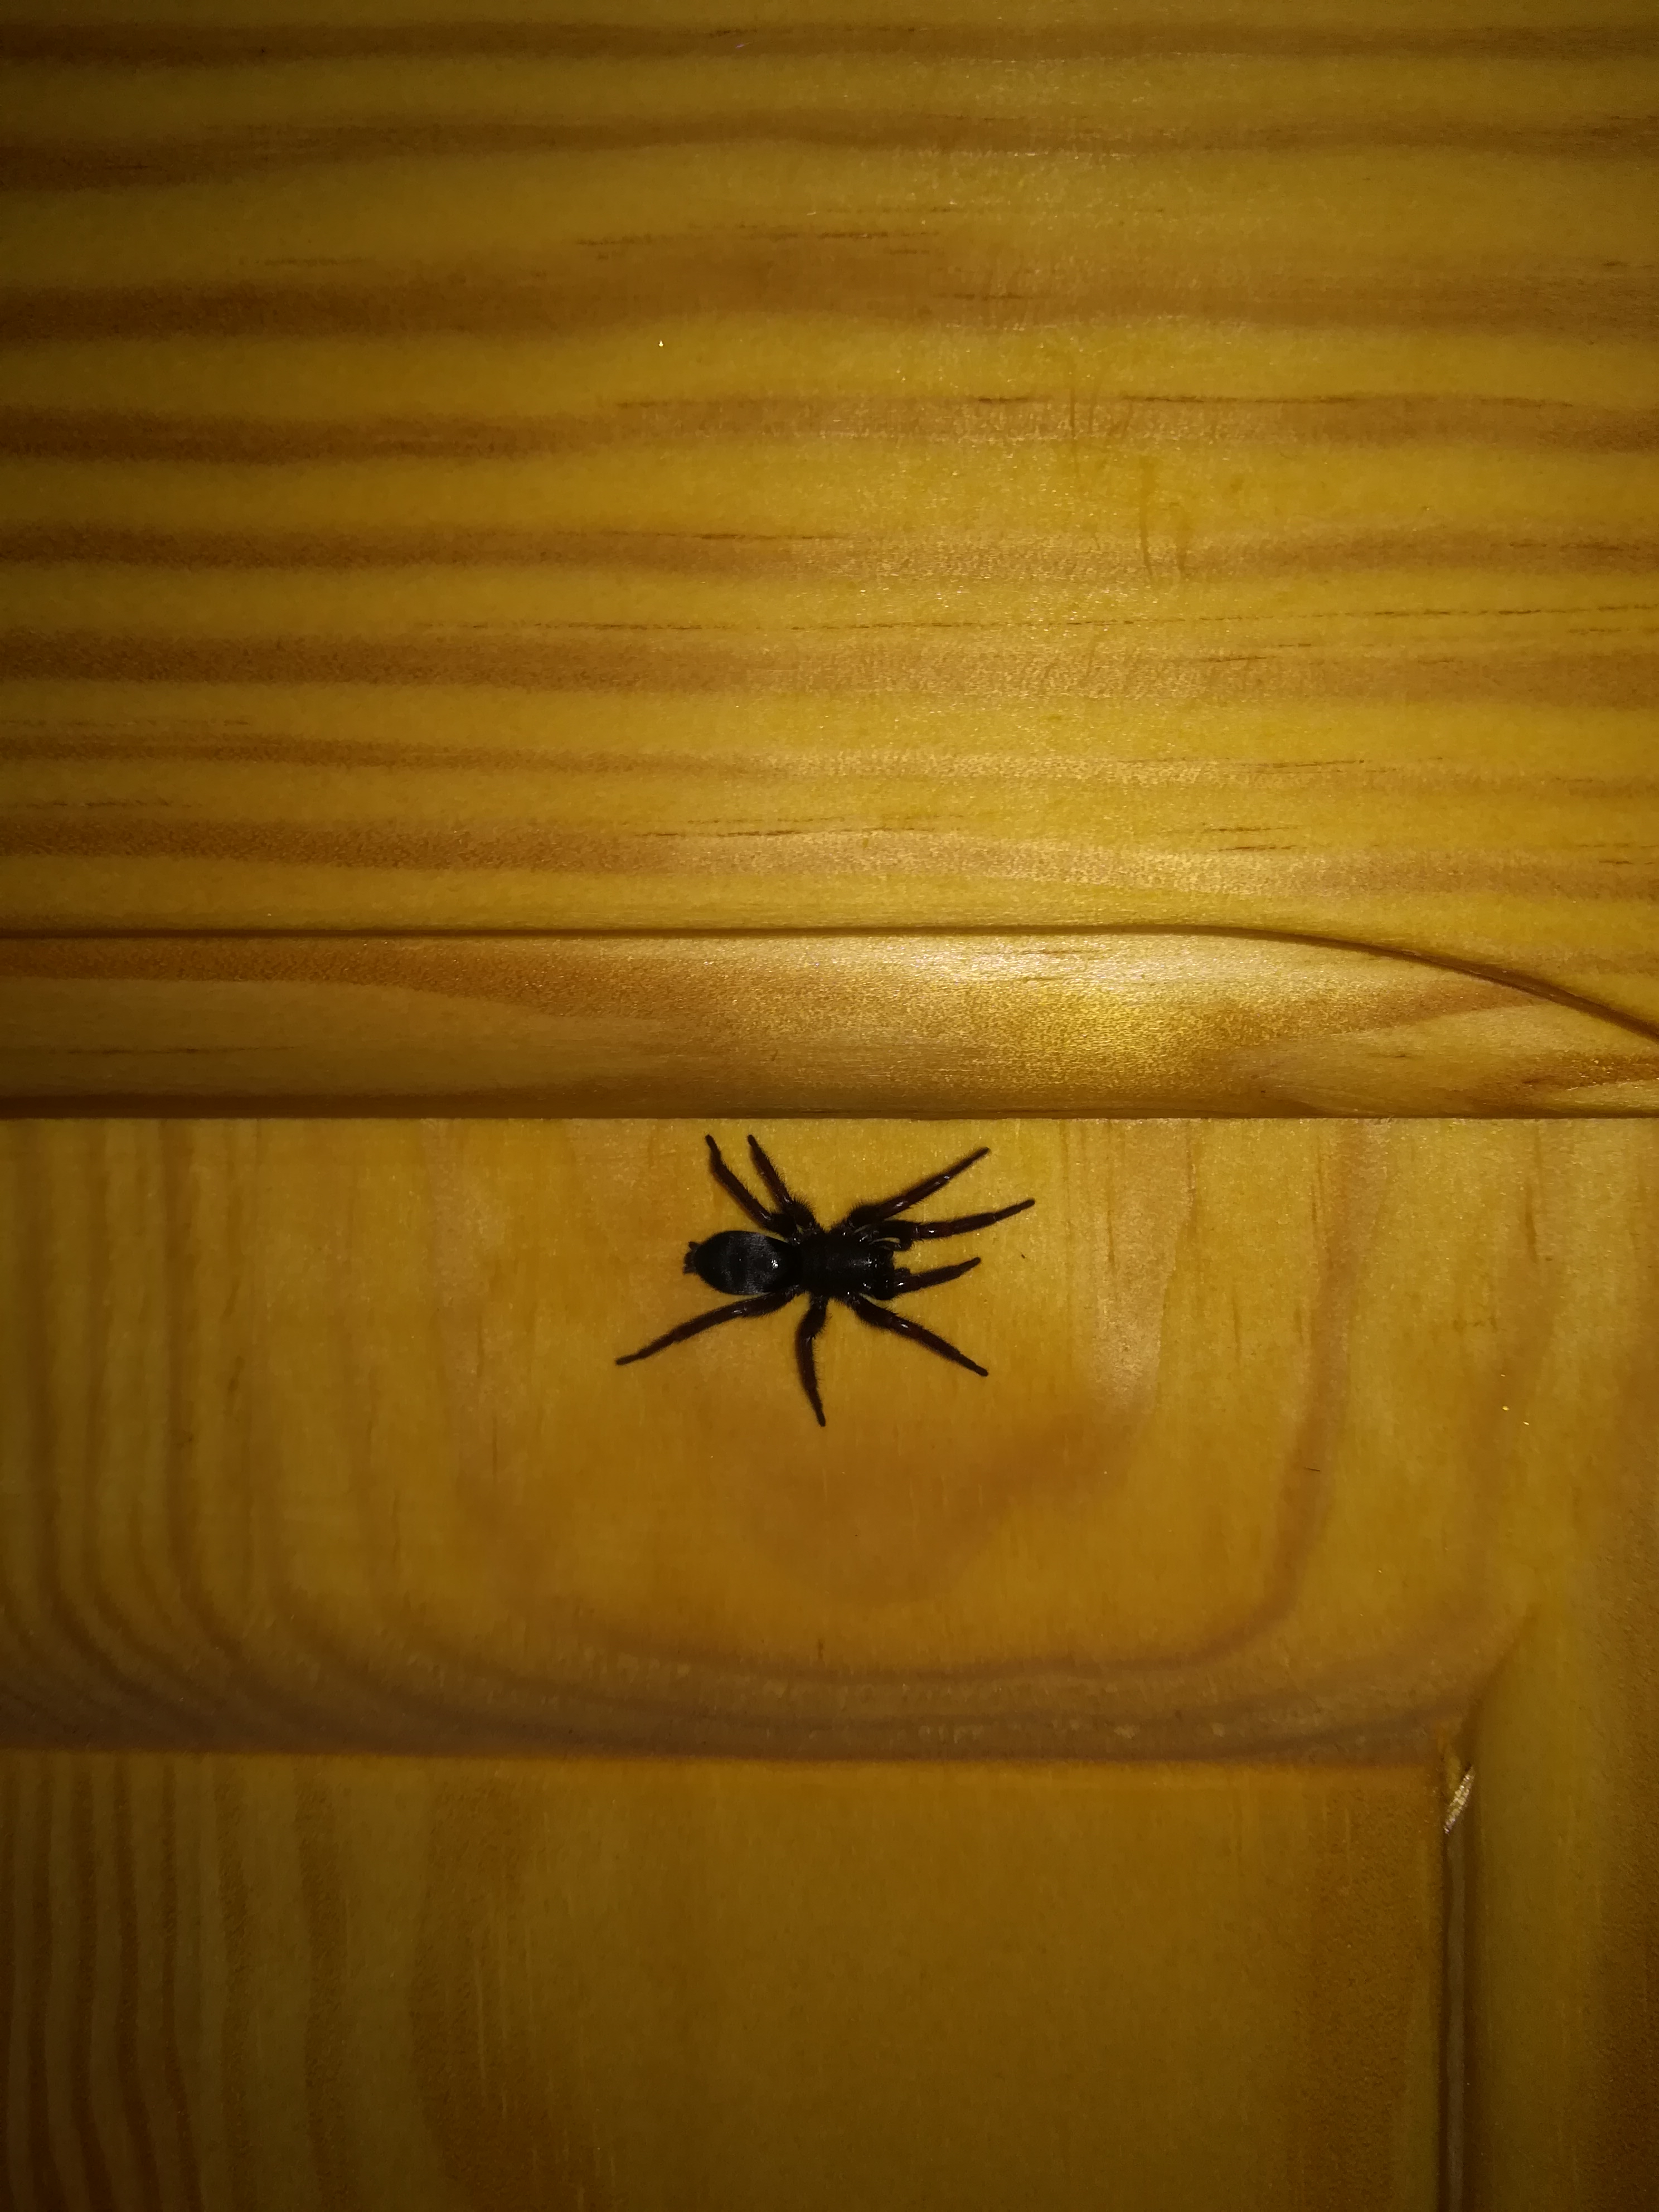spider: (598, 1096, 1089, 1440)
